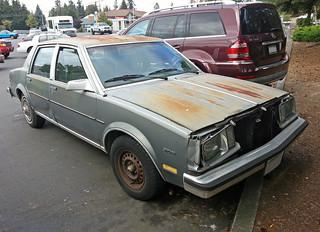Headlight-Damage: (191, 121, 240, 166), (278, 90, 302, 134)
bonnet-dent: (123, 73, 275, 122)
doorouter-dent: (37, 98, 57, 124)
roof-dent: (40, 32, 165, 47)
